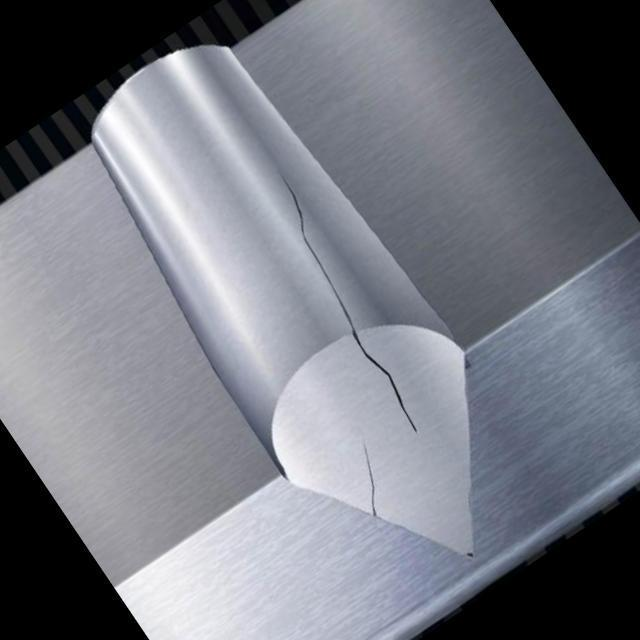defect: (275, 161, 423, 441), (359, 430, 380, 522)
